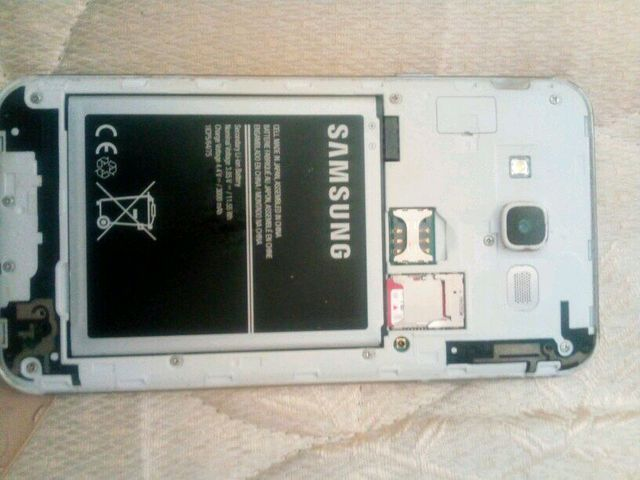phone: (1, 55, 614, 406)
